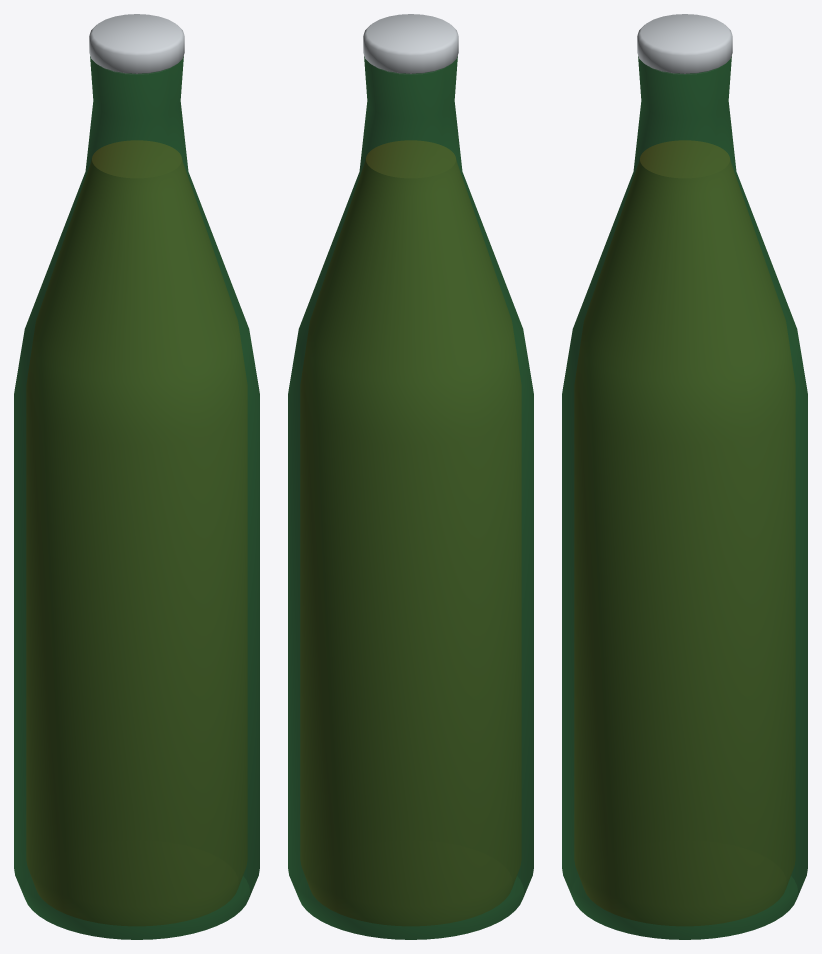
The model's file is cerveja600-vidro_verde.glb.
3 views of the same model, side by side, from view 1: azimuth 30°, elevation 25°; view 2: azimuth 150°, elevation 25°; view 3: azimuth 270°, elevation 25° (orthographic).
Parts seen in each view (by area): view 1: cerveja600-vidro_verde; view 2: cerveja600-vidro_verde; view 3: cerveja600-vidro_verde.
Boxes of the visible parts, x1,y1,x2,y2 form: cerveja600-vidro_verde: (14, 14, 259, 939); cerveja600-vidro_verde: (288, 14, 533, 939); cerveja600-vidro_verde: (562, 14, 807, 939).
Bounding box in the file's own units: 0.076 × 0.2932 × 0.076.
